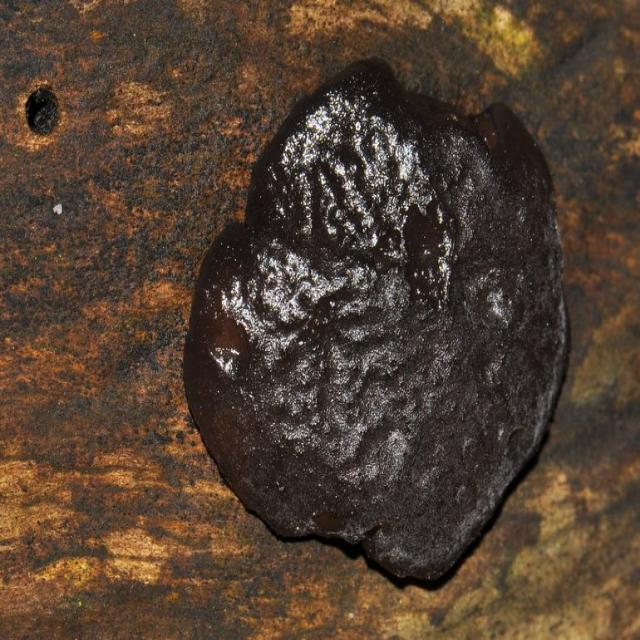Auricularia auricula: (181, 57, 570, 595)
